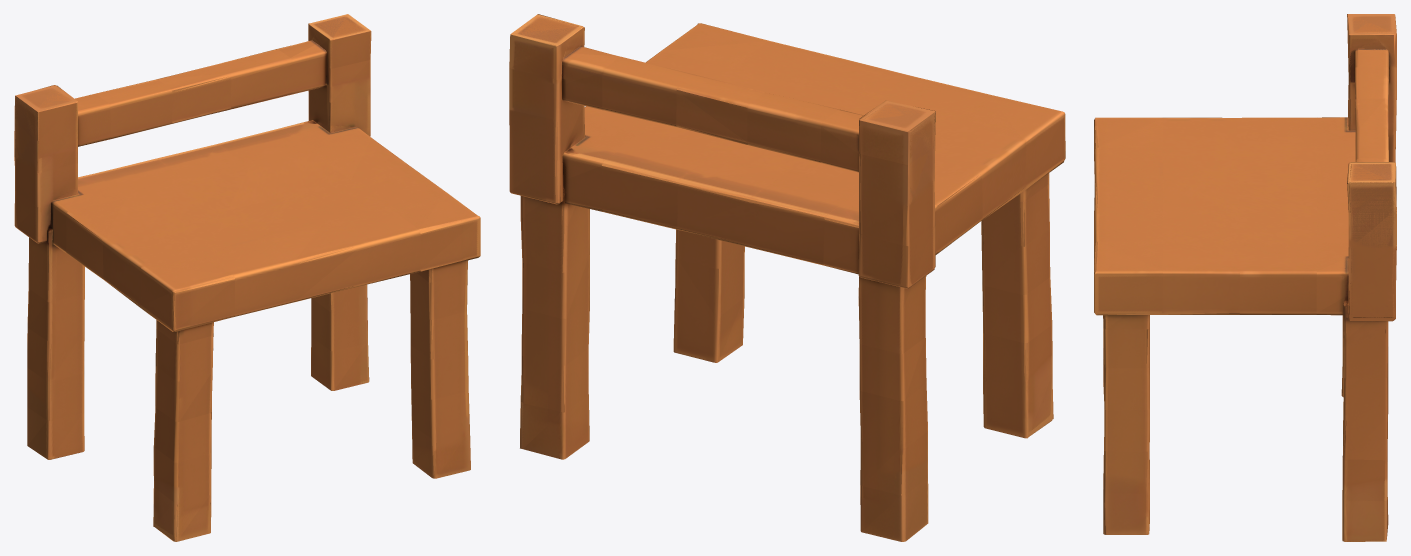
Rendered from lookoutPost.glb.
The picture shows the model from 3 angles, left to right: view 1: azimuth 30°, elevation 25°; view 2: azimuth 150°, elevation 25°; view 3: azimuth 270°, elevation 25°; orthographic projection. The views are drawn at different scales.
Size of the model in its own units: 1 by 1 by 0.7598.
Materials: 1 (1 with a texture image).
